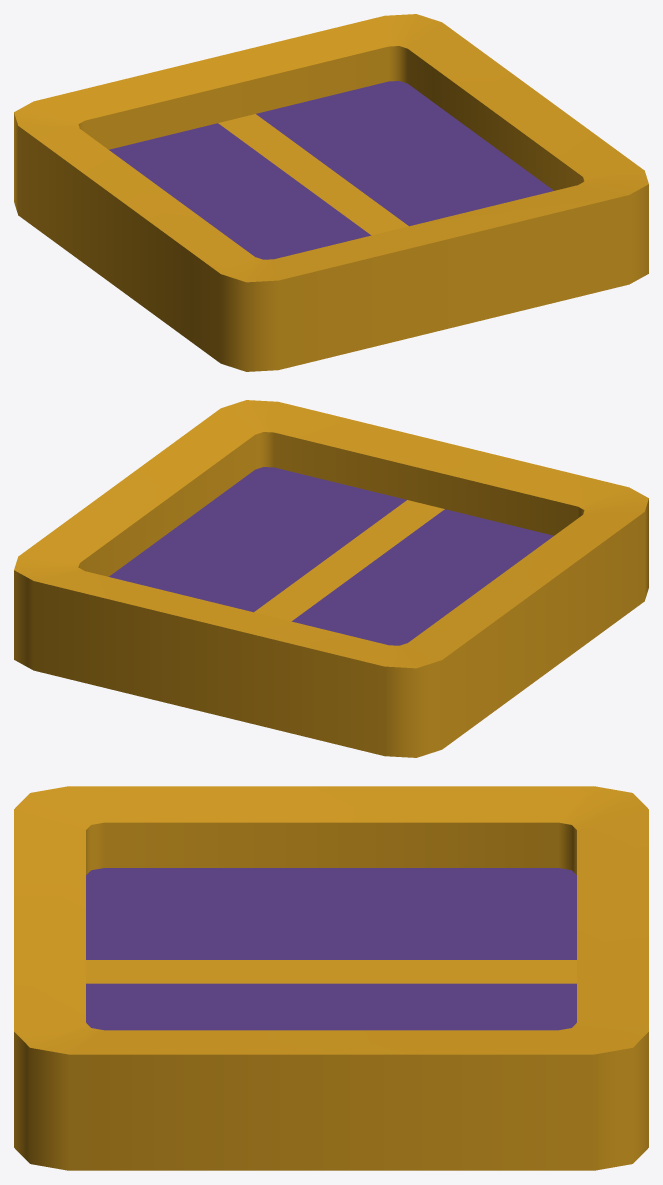
The model's file is TrapDoor.fbx.
3 renders of one model, top to bottom at view 1: azimuth 30°, elevation 25°; view 2: azimuth 150°, elevation 25°; view 3: azimuth 270°, elevation 25°, orthographic. The views are drawn at different scales.
Parts seen in each view (by area): view 1: TrapDoor, Cube.030, Cube.026; view 2: TrapDoor, Cube.030, Cube.026; view 3: TrapDoor, Cube.026, Cube.030.
Part boxes in pixels (x1,y1,x2,y2): TrapDoor: [14, 14, 648, 371]; Cube.030: [237, 81, 553, 230]; Cube.026: [109, 118, 389, 259]; TrapDoor: [14, 400, 648, 757]; Cube.030: [109, 467, 425, 616]; Cube.026: [273, 504, 553, 645]; TrapDoor: [14, 786, 648, 1170]; Cube.026: [86, 868, 576, 971]; Cube.030: [86, 971, 576, 1030].
Bounding box in the file's own units: 405 × 405 × 81.86.
